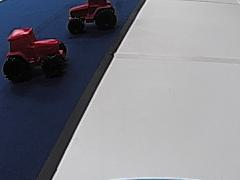Tracktor: (2, 24, 69, 80), (65, 0, 117, 32)
